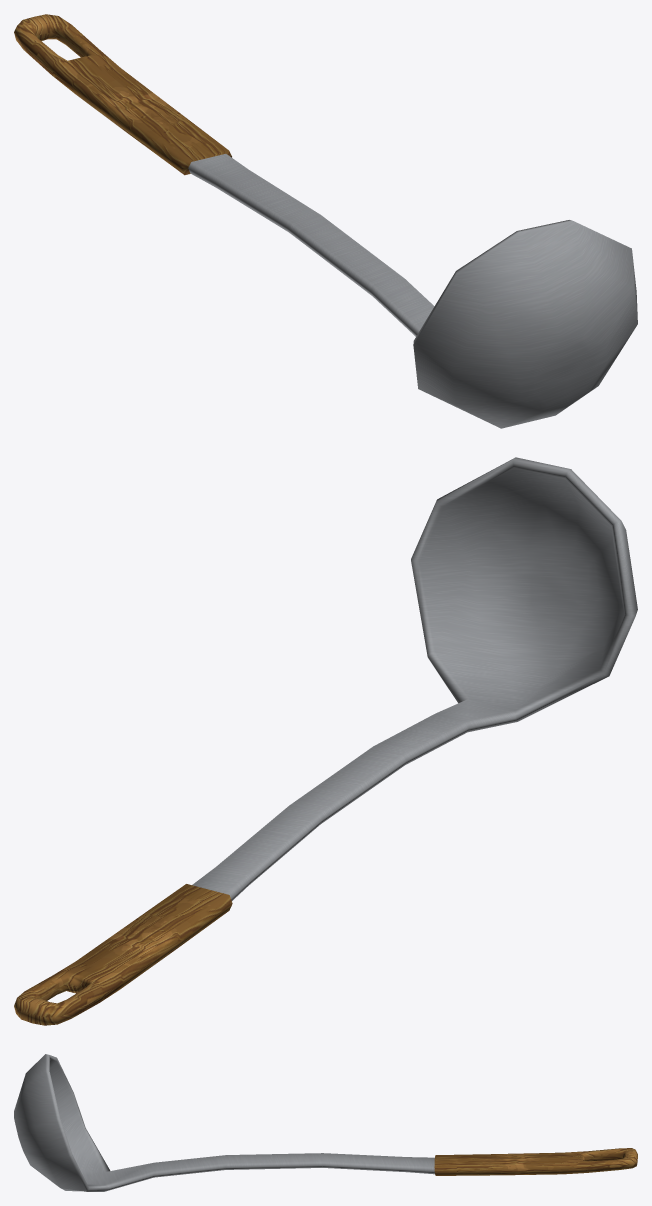
Rendered from Updated_Laddle.fbx.
3 views of the same model, one above another, from view 1: azimuth 30°, elevation 25°; view 2: azimuth 150°, elevation 25°; view 3: azimuth 270°, elevation 25° (orthographic). The views are drawn at different scales.
Parts seen in each view (by area): view 1: laddle; view 2: laddle; view 3: laddle.
Part boxes in pixels (x1,y1,x2,y2): laddle: [14, 14, 637, 428]; laddle: [14, 457, 637, 1025]; laddle: [14, 1054, 637, 1191].
Size of the model in its own units: 6.17 by 5.61 by 25.76.
